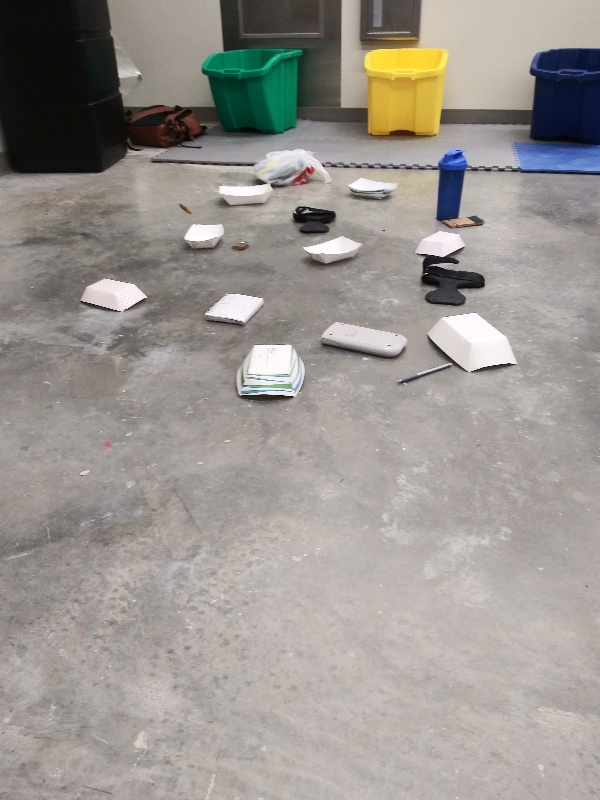plate: (423, 311, 519, 374), (231, 339, 312, 404), (76, 277, 151, 314), (298, 233, 365, 267), (216, 178, 281, 209), (408, 229, 469, 259), (343, 174, 404, 202), (180, 220, 230, 254)
